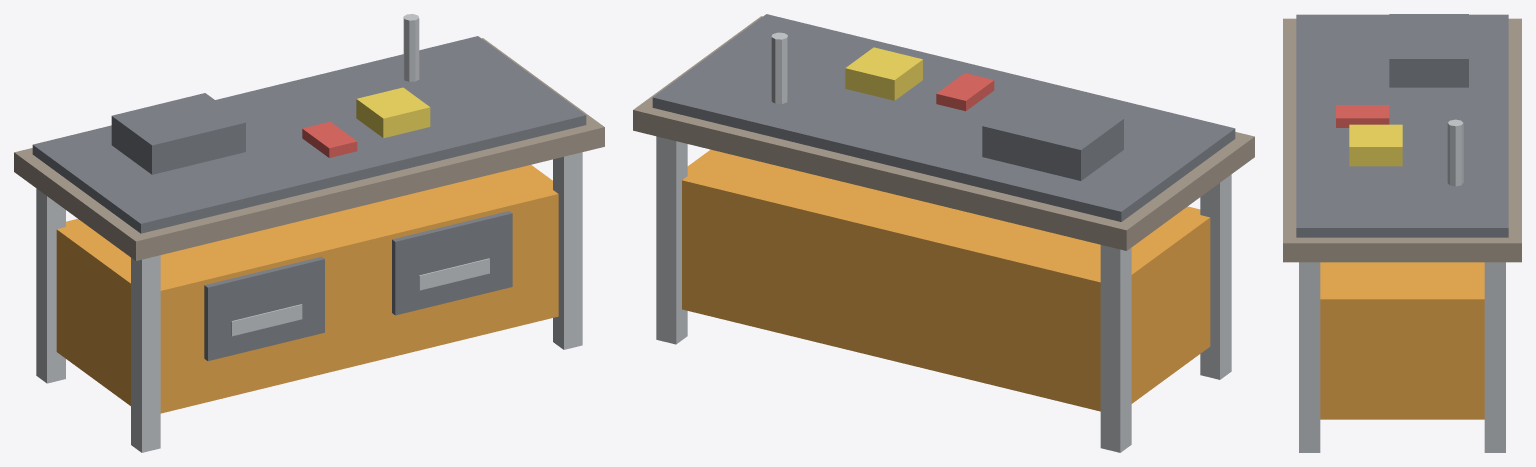
File: workbench-robotics.glb
The picture shows the model from 3 angles, left to right: view 1: azimuth 30°, elevation 25°; view 2: azimuth 150°, elevation 25°; view 3: azimuth 270°, elevation 25°; orthographic projection. The views are drawn at different scales.
Visible parts, largest first — view 1: workbench-robotics; view 2: workbench-robotics; view 3: workbench-robotics.
Boxes of the visible parts, box(x1,y1,x2,y2) form: workbench-robotics: box(14, 14, 604, 452); workbench-robotics: box(633, 14, 1254, 452); workbench-robotics: box(1283, 14, 1521, 452).
Size of the model in its own units: 2 by 1.19 by 0.9.
